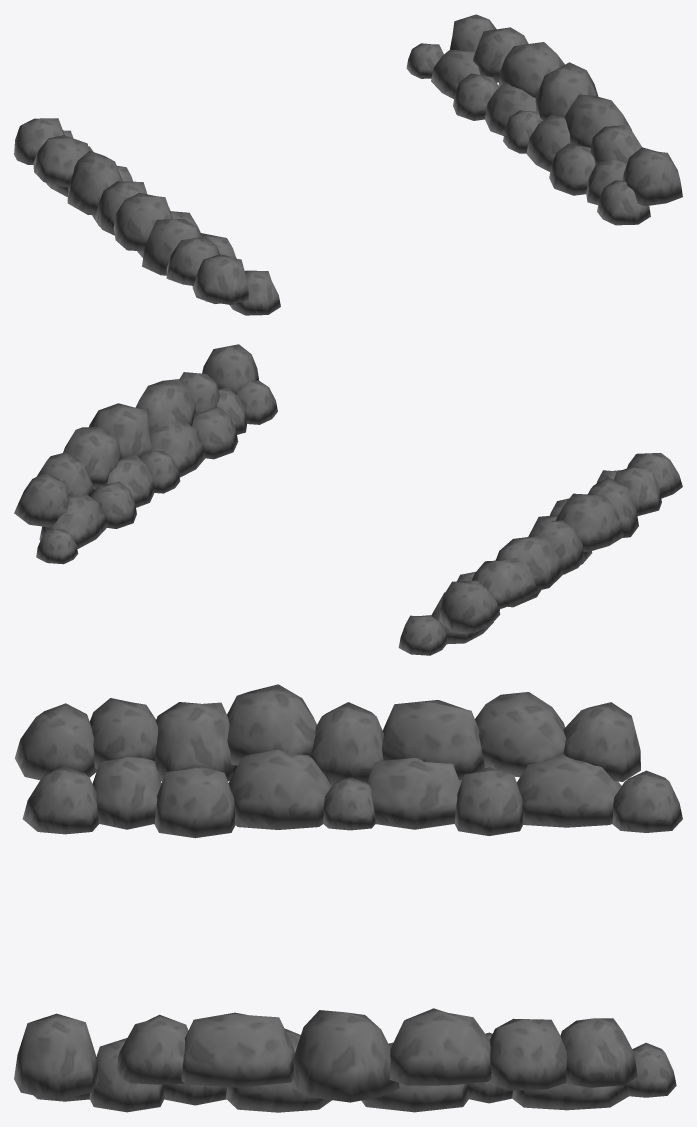
Rendered from Boulders_Edge.fbx.
3 renders of one model, top to bottom at view 1: azimuth 30°, elevation 25°; view 2: azimuth 150°, elevation 25°; view 3: azimuth 270°, elevation 25°, orthographic. The views are drawn at different scales.
Parts seen in each view (by area): view 1: Boulder4 (×2), Boulder56, Boulder49, Boulder54, Boulder51, Boulder50, Boulder55, Boulder58, Boulder62, Boulder52, Boulder6, Boulder53 (+12 smaller); view 2: Boulder3 (×2), Boulder49, Boulder60, Boulder9 (×2), Boulder54, Boulder62, Boulder59, Boulder55, Boulder58, Boulder50, Boulder10, Boulder56 (+12 smaller); view 3: Boulder10 (×2), Boulder9 (×2), Boulder7 (×2), Boulder55, Boulder58, Boulder8 (×2), Boulder54, Boulder6 (×2), Boulder56, Boulder50, Boulder62, Boulder3 (×2) (+12 smaller).
Boxes of the visible parts, x1=… form: Boulder4 (×2): x1=229, y1=180, x2=650, y2=315; Boulder56: x1=622, y1=147, x2=682, y2=206; Boulder49: x1=113, y1=192, x2=172, y2=251; Boulder54: x1=498, y1=42, x2=564, y2=97; Boulder51: x1=193, y1=254, x2=248, y2=304; Boulder50: x1=67, y1=150, x2=122, y2=214; Boulder55: x1=535, y1=62, x2=598, y2=120; Boulder58: x1=564, y1=94, x2=631, y2=147; Boulder62: x1=33, y1=135, x2=88, y2=187; Boulder52: x1=142, y1=219, x2=201, y2=275; Boulder6: x1=549, y1=143, x2=595, y2=195; Boulder53: x1=473, y1=27, x2=528, y2=82; Boulder3 (×2): x1=36, y1=529, x2=446, y2=655; Boulder49: x1=555, y1=493, x2=623, y2=552; Boulder60: x1=439, y1=580, x2=500, y2=633; Boulder9 (×2): x1=39, y1=494, x2=493, y2=644; Boulder54: x1=63, y1=427, x2=120, y2=489; Boulder62: x1=471, y1=558, x2=538, y2=609; Boulder59: x1=14, y1=472, x2=69, y2=527; Boulder55: x1=89, y1=403, x2=151, y2=458; Boulder58: x1=135, y1=379, x2=195, y2=428; Boulder50: x1=495, y1=534, x2=562, y2=590; Boulder10: x1=150, y1=422, x2=205, y2=477; Boulder56: x1=202, y1=344, x2=258, y2=394; Boulder10 (×2): x1=226, y1=749, x2=331, y2=1112; Boulder9 (×2): x1=512, y1=754, x2=628, y2=1110; Boulder7 (×2): x1=361, y1=758, x2=468, y2=1112; Boulder55: x1=289, y1=1010, x2=399, y2=1102; Boulder58: x1=181, y1=1012, x2=294, y2=1087; Boulder8 (×2): x1=89, y1=757, x2=164, y2=1112; Boulder54: x1=389, y1=1008, x2=491, y2=1085; Boulder6 (×2): x1=154, y1=765, x2=235, y2=1105; Boulder56: x1=14, y1=1013, x2=98, y2=1100; Boulder50: x1=382, y1=700, x2=484, y2=780; Boulder62: x1=475, y1=692, x2=565, y2=777; Boulder3 (×2): x1=612, y1=770, x2=682, y2=1097.
Bounding box in the file's own units: 4017 × 503 × 3087.
1 material, 1 textured.
